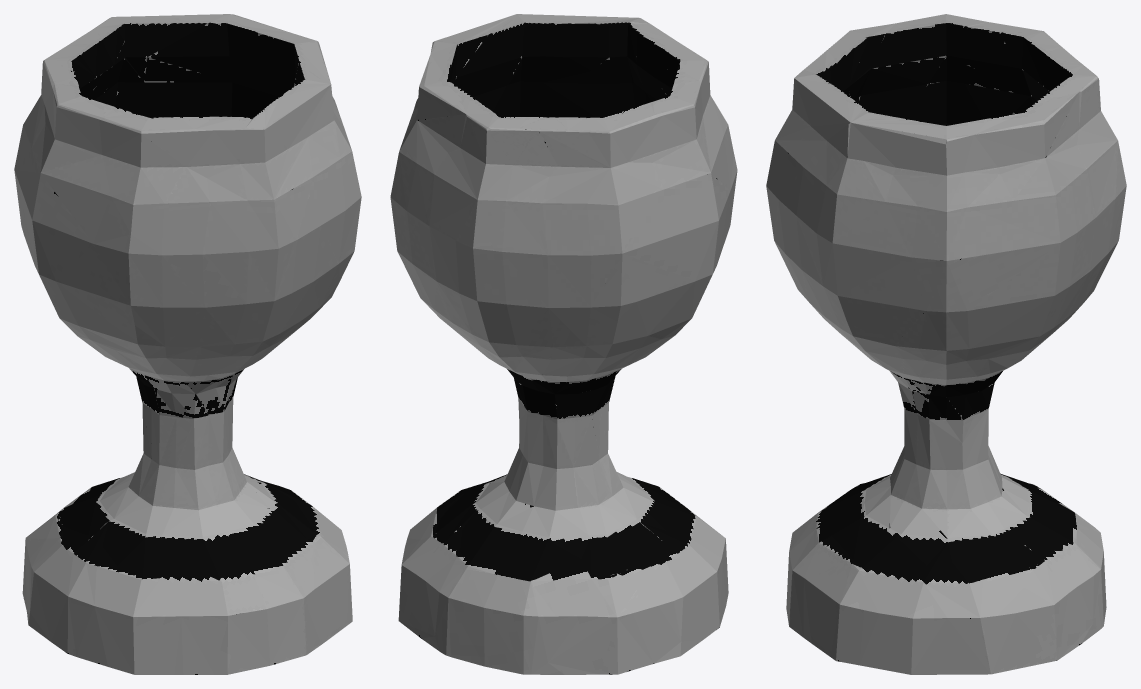
The picture shows the model from 3 angles, left to right: view 1: azimuth 30°, elevation 25°; view 2: azimuth 150°, elevation 25°; view 3: azimuth 270°, elevation 25°; orthographic projection.
Visible parts, largest first — view 1: OBJ0a9; view 2: OBJ0a9; view 3: OBJ0a9.
Boxes of the visible parts, x1,y1,x2,y2 form: OBJ0a9: (14, 14, 361, 674); OBJ0a9: (390, 14, 737, 674); OBJ0a9: (766, 14, 1126, 674).
Bounding box in the file's own units: 0.1608 × 0.2657 × 0.1626.
Materials: 1 (1 with a texture image).
